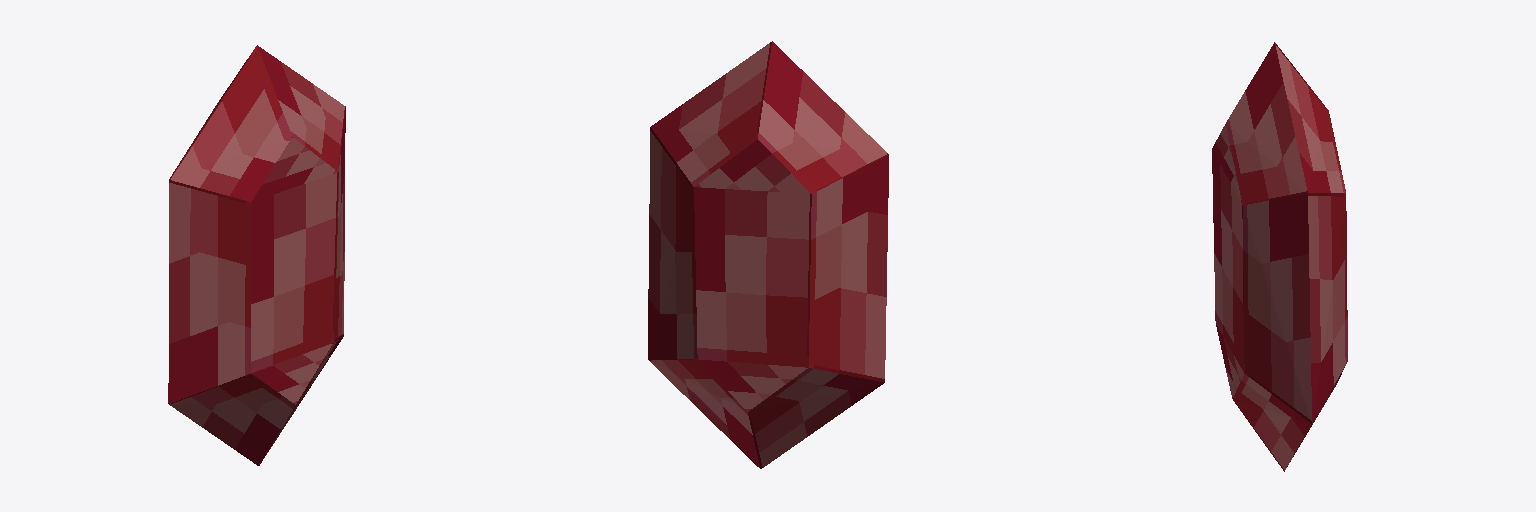
3 views of the same model, side by side, from view 1: azimuth 30°, elevation 25°; view 2: azimuth 150°, elevation 25°; view 3: azimuth 270°, elevation 25° (orthographic).
Parts seen in each view (by area): view 1: Cube.001_Cube.006; view 2: Cube.001_Cube.006; view 3: Cube.001_Cube.006.
Boxes of the visible parts, box(x1,y1,x2,y2) form: Cube.001_Cube.006: box(168, 45, 345, 465); Cube.001_Cube.006: box(648, 41, 888, 468); Cube.001_Cube.006: box(1212, 42, 1347, 471).
Size of the model in its own units: 2.81 by 5.5 by 1.59.
Materials: 1 (1 with a texture image).